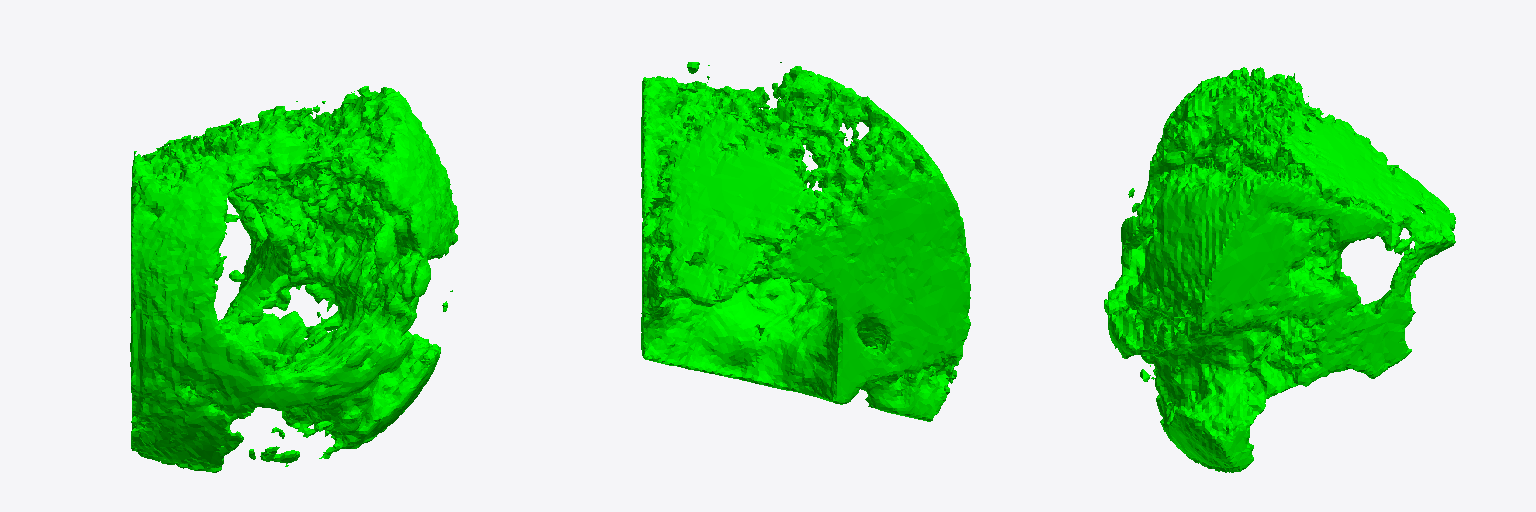
File: B939XXXX-1_base_13.obj
3 views of the same model, side by side, from view 1: azimuth 30°, elevation 25°; view 2: azimuth 150°, elevation 25°; view 3: azimuth 270°, elevation 25° (orthographic).
Visible parts, largest first — view 1: 13_base; view 2: 13_base; view 3: 13_base.
Part boxes in pixels (x1,y1,x2,y2): 13_base: (130,86,458,472); 13_base: (641,62,970,421); 13_base: (1104,67,1455,472).
Size of the model in its own units: 219 by 219 by 204.